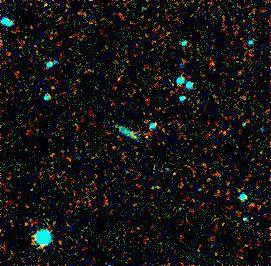star: (130, 126, 160, 156)
